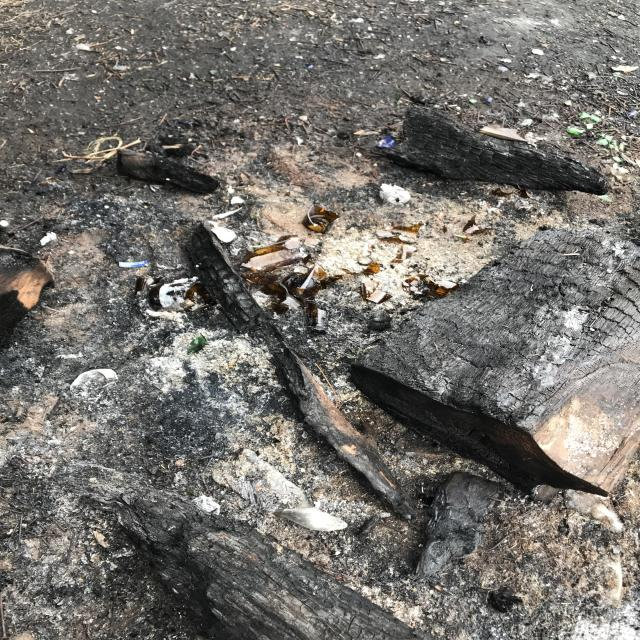litter: (131, 190, 425, 361)
